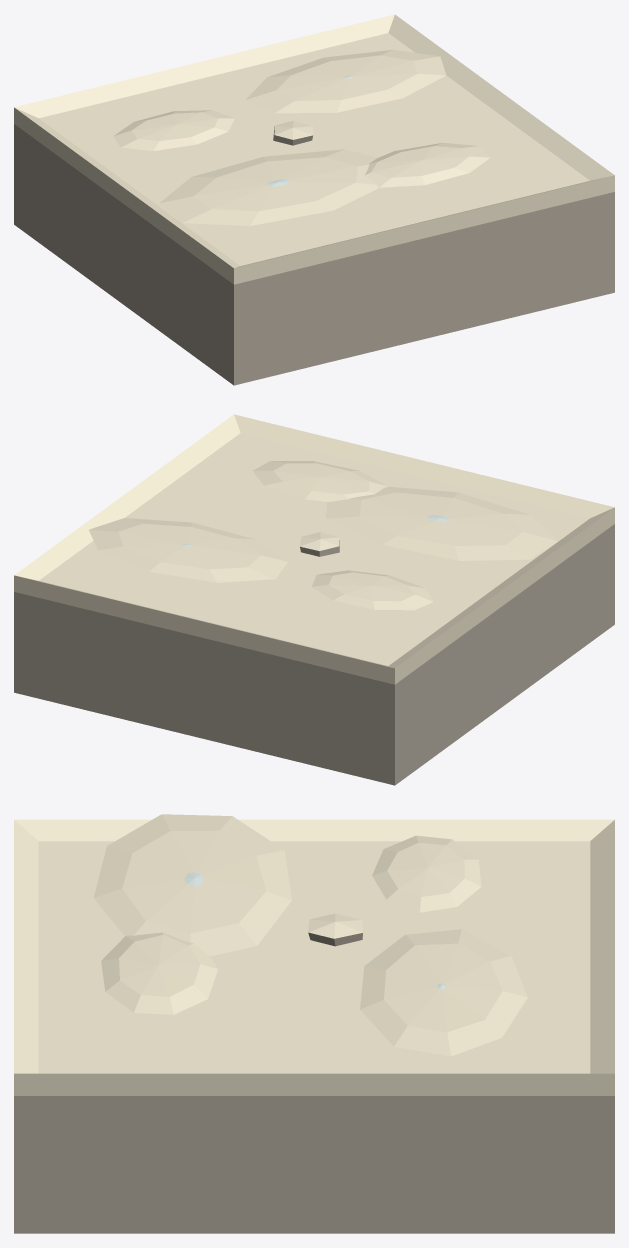
Rendered from tile_snow_drift.glb.
3 views of the same model, one above another, from view 1: azimuth 30°, elevation 25°; view 2: azimuth 150°, elevation 25°; view 3: azimuth 270°, elevation 25° (orthographic). The views are drawn at different scales.
Visible parts, largest first — view 1: snow_drift_cap, snow_drift_body, drift_billow_0, drift_billow_1, drift_billow_2, drift_billow_3, drift_rock; view 2: snow_drift_cap, snow_drift_body, drift_billow_0, drift_billow_1, drift_billow_2, drift_billow_3, drift_rock; view 3: snow_drift_cap, snow_drift_body, drift_billow_0, drift_billow_1, drift_billow_2, drift_billow_3, drift_rock.
Part boxes in pixels (<box>): snow_drift_cap: <box>14,14,614,284</box>; snow_drift_body: <box>14,124,614,385</box>; drift_billow_0: <box>159,149,379,225</box>; drift_billow_1: <box>245,50,446,113</box>; drift_billow_2: <box>365,142,490,187</box>; drift_billow_3: <box>113,110,234,150</box>; drift_rock: <box>273,120,313,145</box>; snow_drift_cap: <box>14,414,614,684</box>; snow_drift_body: <box>14,524,614,785</box>; drift_billow_0: <box>326,486,557,560</box>; drift_billow_1: <box>89,518,287,582</box>; drift_billow_2: <box>253,461,388,501</box>; drift_billow_3: <box>312,570,433,610</box>; drift_rock: <box>300,532,339,556</box>; snow_drift_cap: <box>14,819,614,1095</box>; snow_drift_body: <box>14,1096,614,1233</box>; drift_billow_0: <box>93,814,291,956</box>; drift_billow_1: <box>360,929,527,1056</box>; drift_billow_2: <box>101,932,217,1014</box>; drift_billow_3: <box>372,835,481,912</box>; drift_rock: <box>308,913,362,946</box>.
Size of the model in its own units: 1.7 by 0.5481 by 1.7.
